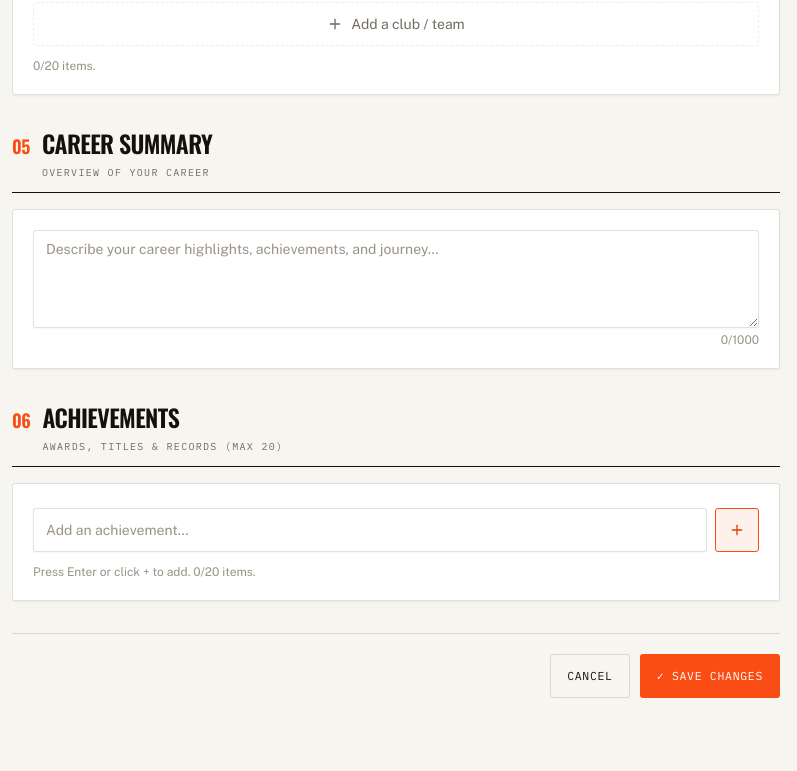
EditProfile achievements › typing + clicking + adds an achievement to the list
(page scrolled)
Type "Regional Champion" into the field with placeholder "Add an achievement…" at {"x": 370, "y": 530}, box [33,508,707,552]
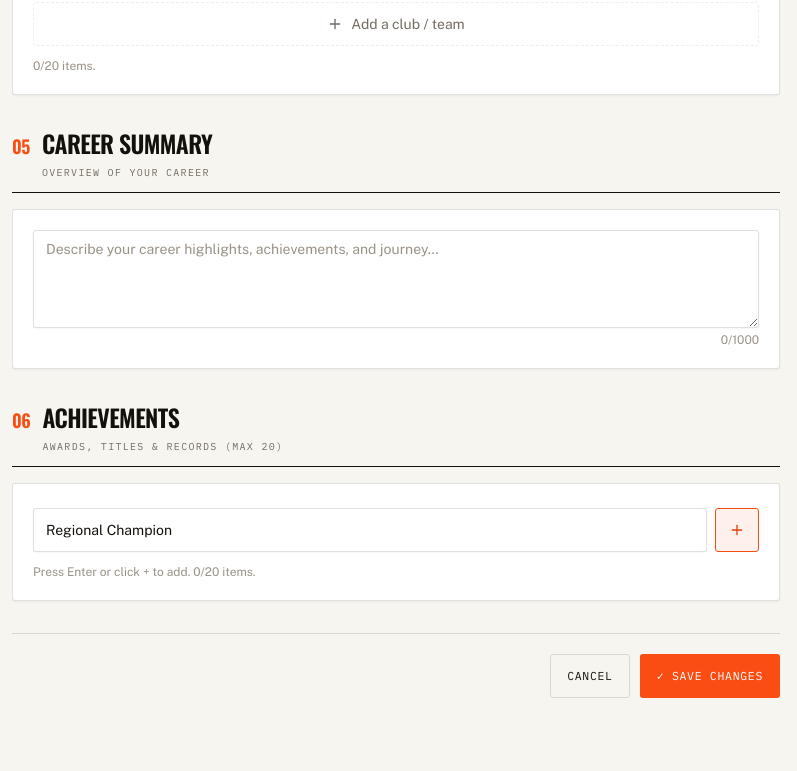
Click the button titled "Add" at {"x": 737, "y": 530}, box [715,508,759,552]
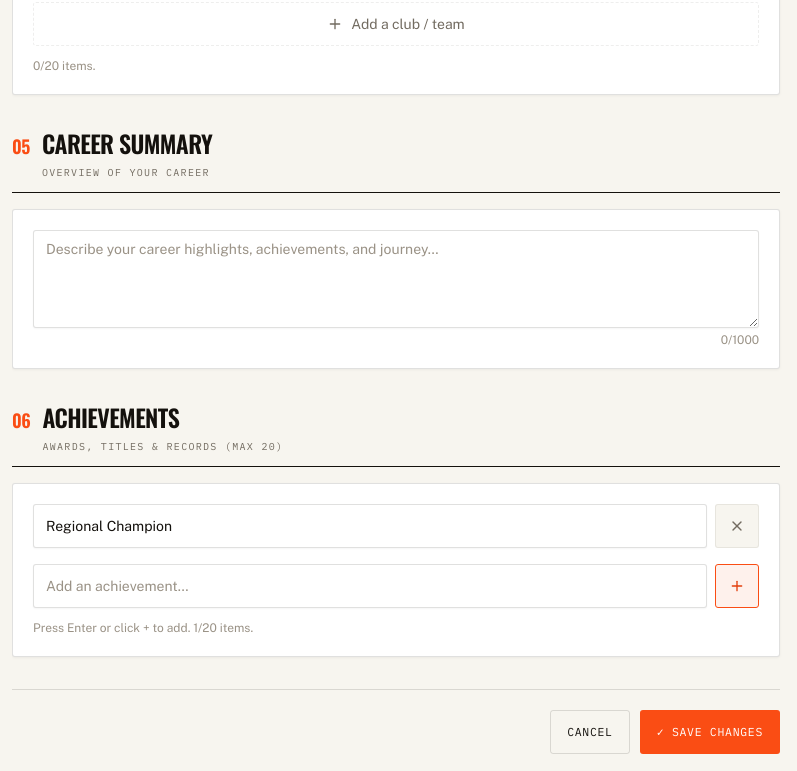
Result: the text "Press Enter or click + to add. 1/20 items." is shown at [33,621,253,635]
